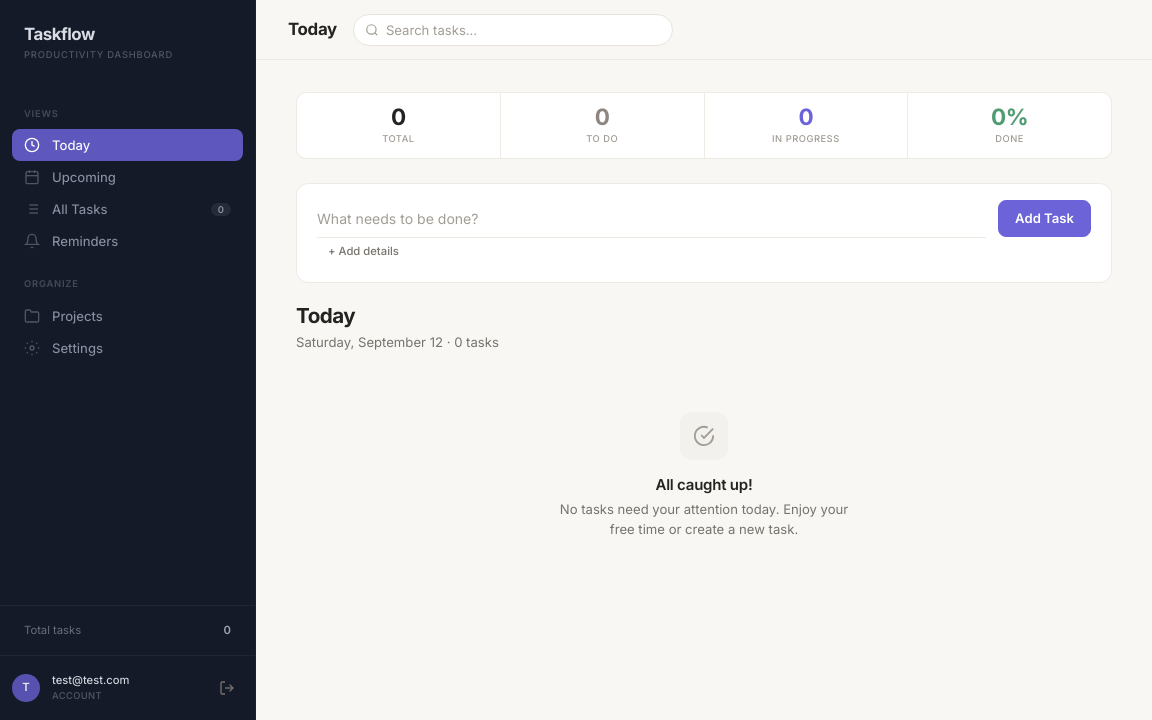
Test case: App - Authentication › clears authentication state on logout
What coordinates should you click on to do the following:
click the button titled "Sign out"
I would click on:
 (227, 688)
Its box is [211,672,243,704].
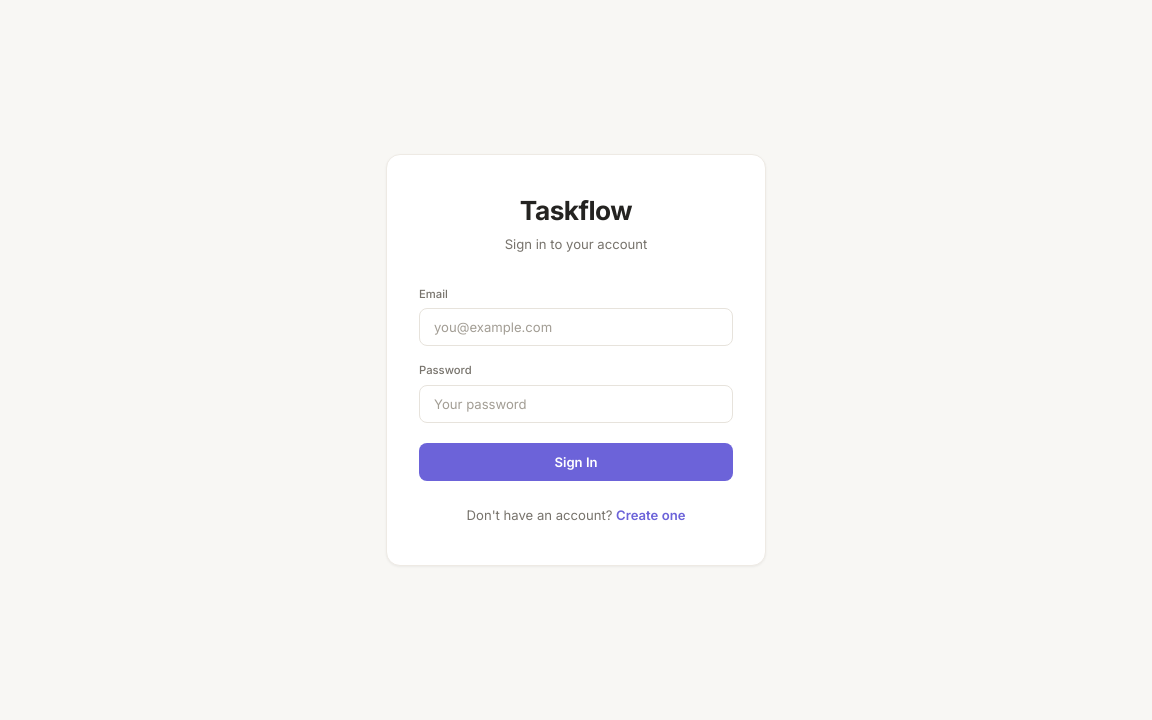
expect the button "Sign In" is shown: met, box [419,443,733,481]
